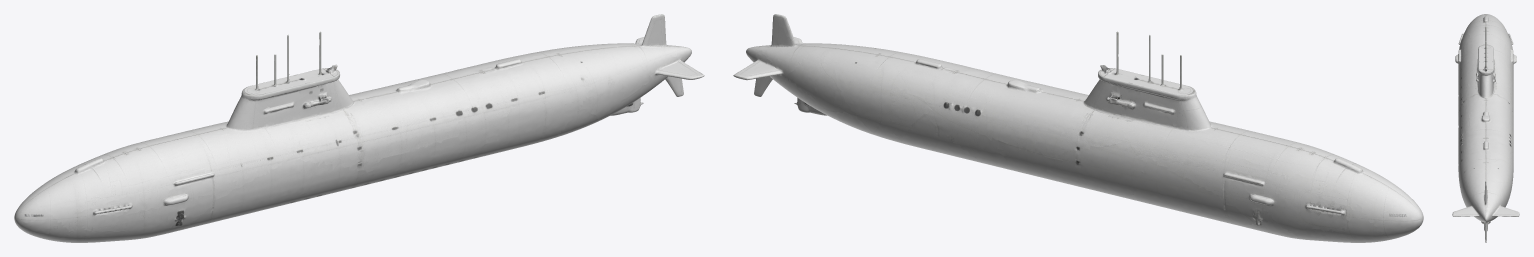
The model's file is knight_white.glb.
3 renders of one model, left to right at view 1: azimuth 30°, elevation 25°; view 2: azimuth 150°, elevation 25°; view 3: azimuth 270°, elevation 25°, orthographic. The views are drawn at different scales.
Parts seen in each view (by area): view 1: mesh_node; view 2: mesh_node; view 3: mesh_node.
Boxes of the visible parts, box(x1,y1,x2,y2) form: mesh_node: box(14, 14, 704, 242); mesh_node: box(733, 14, 1423, 242); mesh_node: box(1452, 14, 1519, 242).
Bounding box in the file's own units: 1.9 × 0.44 × 0.266.
Materials: 1 (1 with a texture image).
